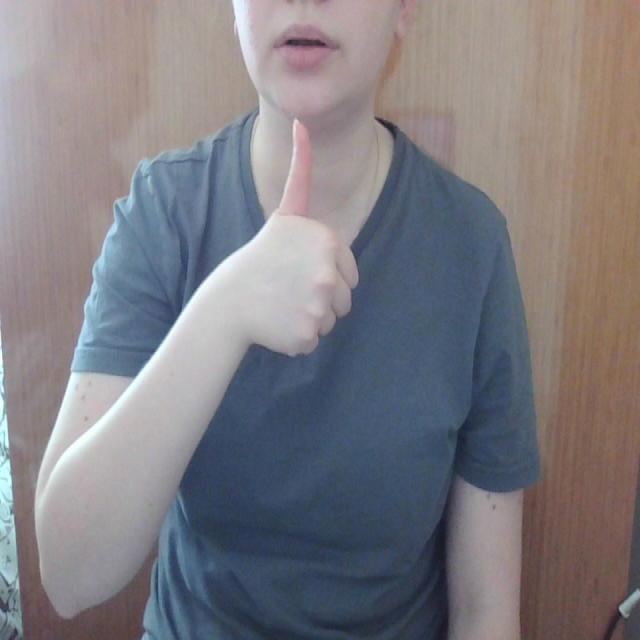Baba: (246, 13, 350, 196)
